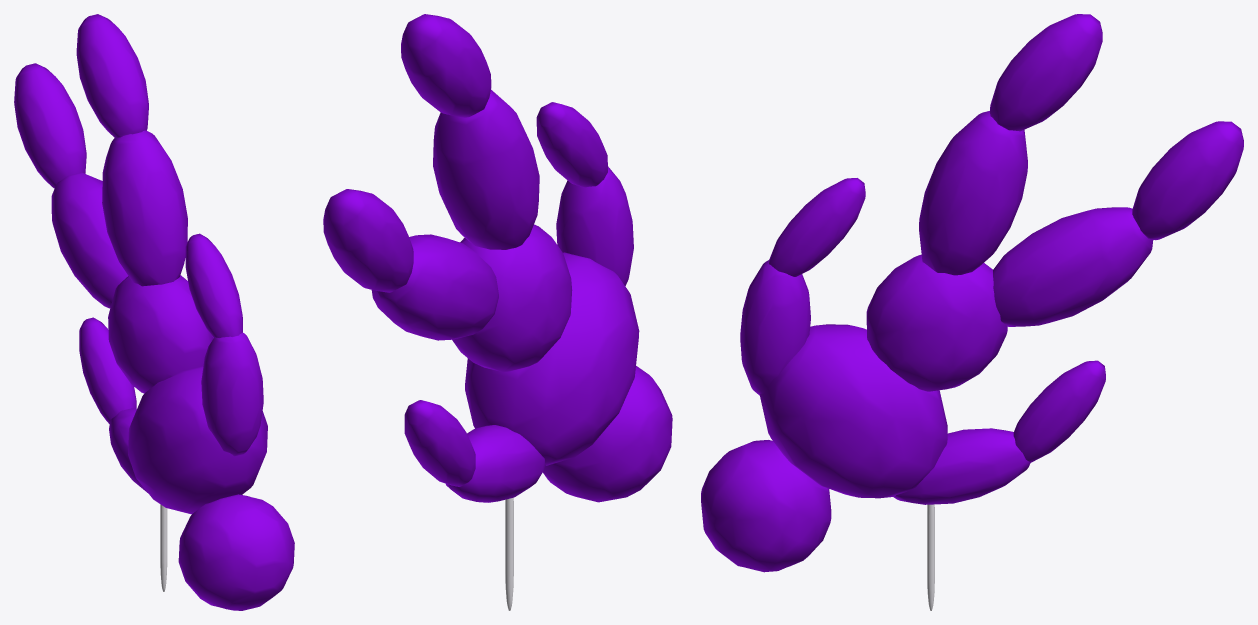
The model's file is balloon3.glb.
3 views of the same model, side by side, from view 1: azimuth 30°, elevation 25°; view 2: azimuth 150°, elevation 25°; view 3: azimuth 270°, elevation 25° (orthographic). The views are drawn at different scales.
Parts seen in each view (by area): view 1: Mball.001; view 2: Mball.001; view 3: Mball.001.
Part boxes in pixels (box(x1,y1,x2,y2)): Mball.001: box(14, 14, 294, 610); Mball.001: box(323, 14, 672, 610); Mball.001: box(701, 14, 1243, 610).
Bounding box in the file's own units: 2.12 × 9.61 × 7.96.
